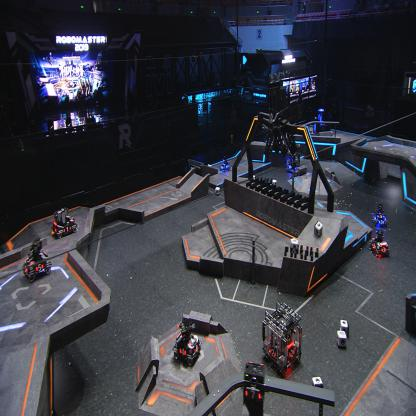car: (261, 299, 303, 376), (173, 318, 202, 368), (22, 236, 51, 284), (51, 206, 77, 240), (369, 229, 390, 258), (370, 204, 388, 227), (285, 148, 301, 172), (218, 155, 231, 172)
